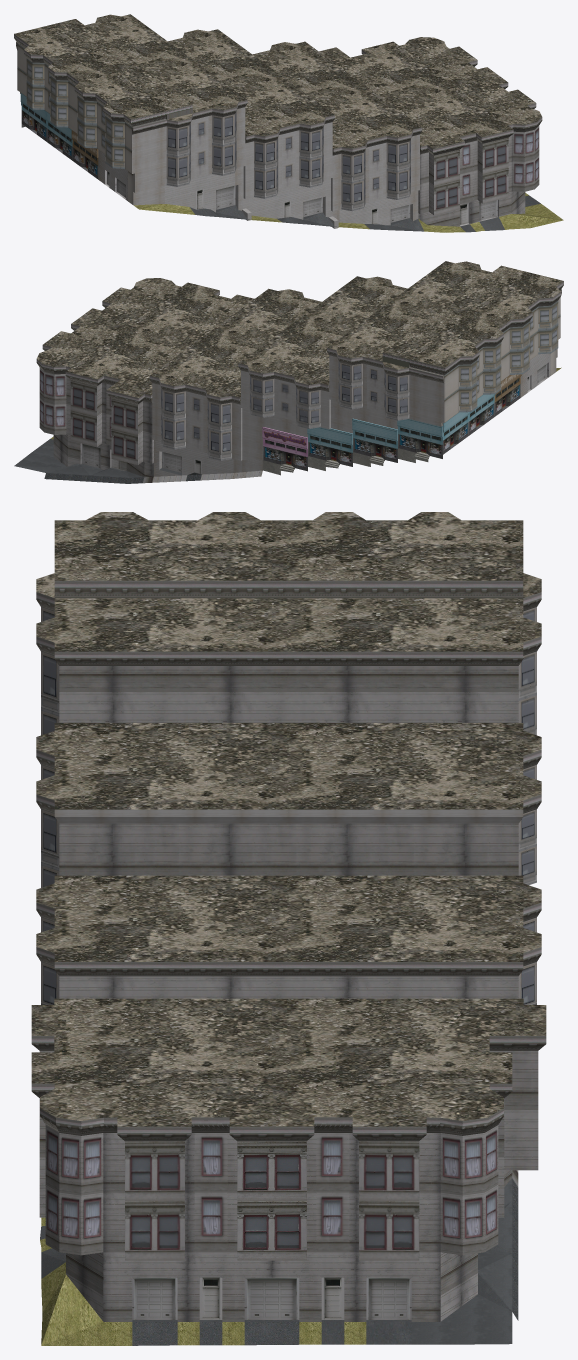
The model's file is haight_17_sfs.obj.
3 views of the same model, one above another, from view 1: azimuth 30°, elevation 25°; view 2: azimuth 150°, elevation 25°; view 3: azimuth 270°, elevation 25° (orthographic). The views are drawn at different scales.
Parts seen in each view (by area): view 1: haight_17_SFS; view 2: haight_17_SFS; view 3: haight_17_SFS.
Part boxes in pixels (bbox=[...]): haight_17_SFS: bbox=[14, 14, 563, 232]; haight_17_SFS: bbox=[14, 261, 563, 483]; haight_17_SFS: bbox=[31, 512, 546, 1345].
Bounding box in the file's own units: 86.14 × 38.91 × 43.82.
26 materials, 26 textured.
